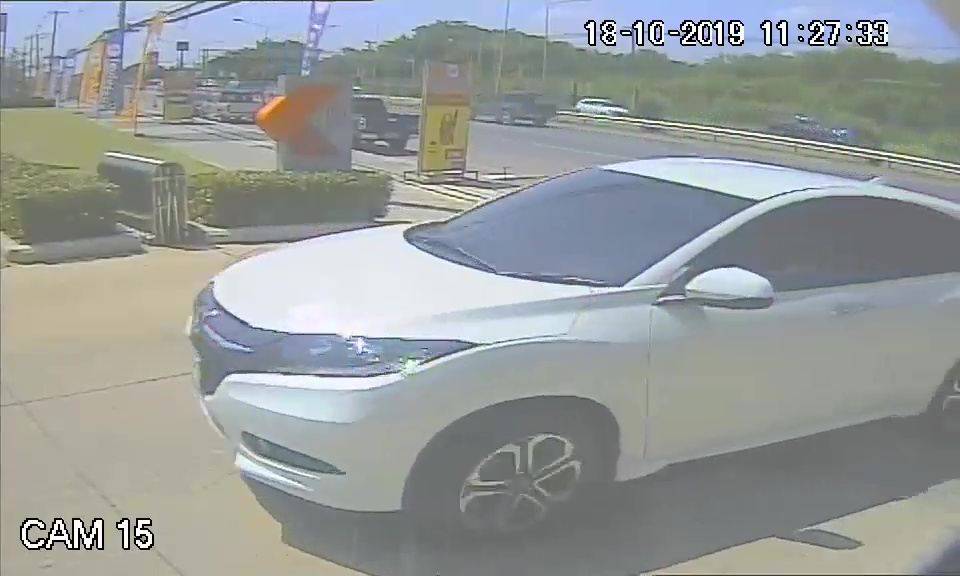pickup: (183, 153, 949, 520)
